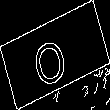O_N: (34, 24, 76, 86)
